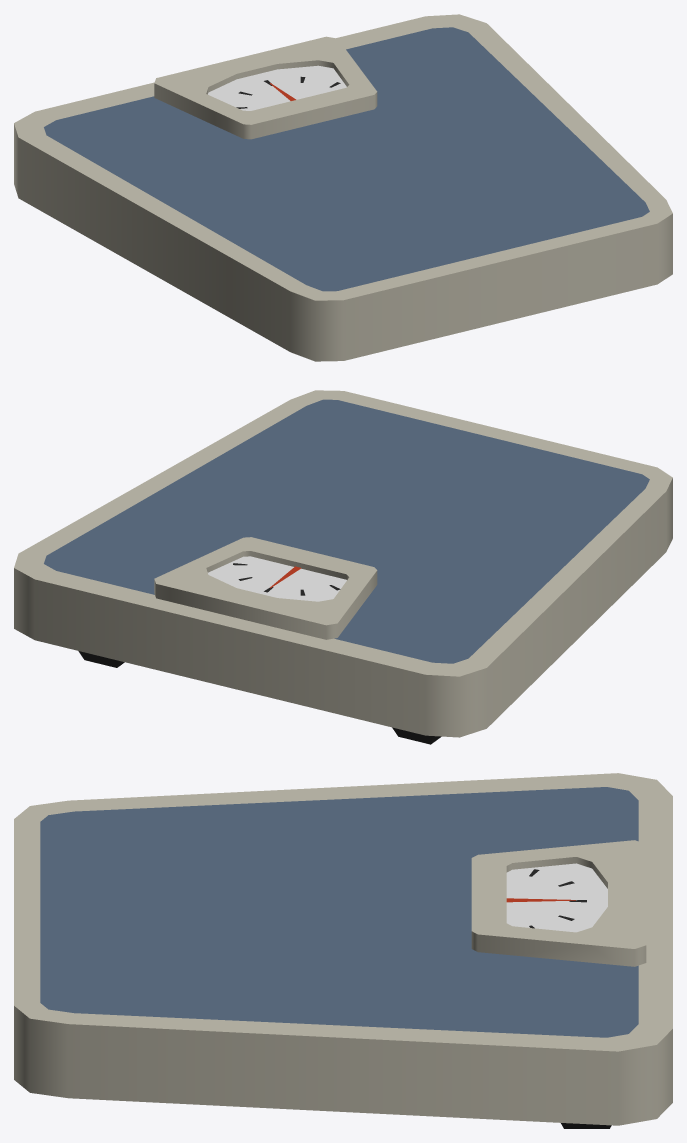
The model's file is BathroomScale_01.fbx.
The picture shows the model from 3 angles, top to bottom: view 1: azimuth 30°, elevation 25°; view 2: azimuth 150°, elevation 25°; view 3: azimuth 270°, elevation 25°; orthographic projection. The views are drawn at different scales.
Visible parts, largest first — view 1: BathroomScale_01; view 2: BathroomScale_01; view 3: BathroomScale_01.
Boxes of the visible parts, x1,y1,x2,y2 form: BathroomScale_01: (14,14,672,361); BathroomScale_01: (14,390,672,744); BathroomScale_01: (14,773,672,1128).
Size of the model in its own units: 0.4086 by 0.0904 by 0.4086.
